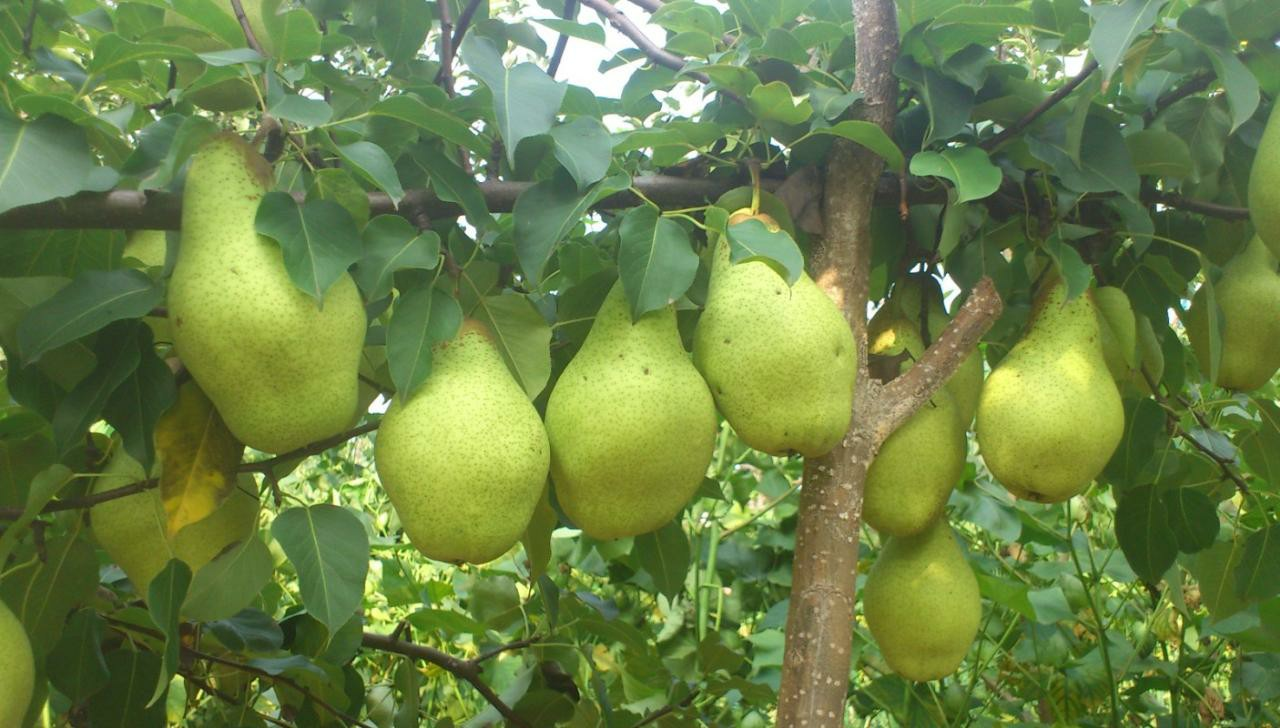pear: (169, 143, 363, 449), (546, 255, 712, 545), (380, 298, 549, 565), (94, 342, 260, 591), (702, 203, 859, 454), (977, 252, 1123, 497), (846, 313, 971, 536), (868, 510, 981, 685), (1189, 243, 1279, 394), (1081, 271, 1165, 399), (1245, 95, 1280, 258), (1, 591, 36, 728)
